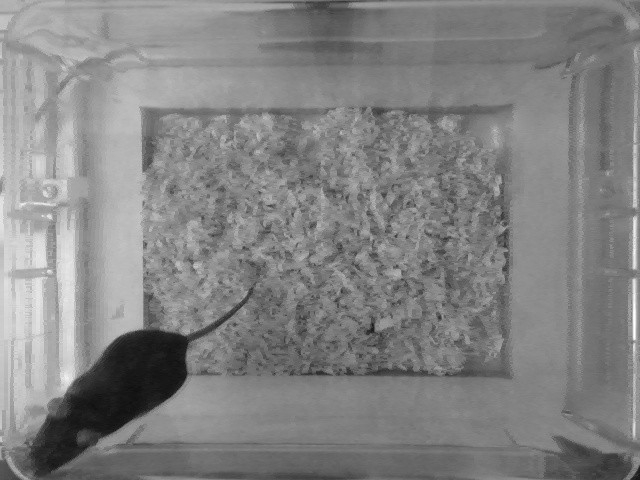mice: (29, 281, 257, 475)
